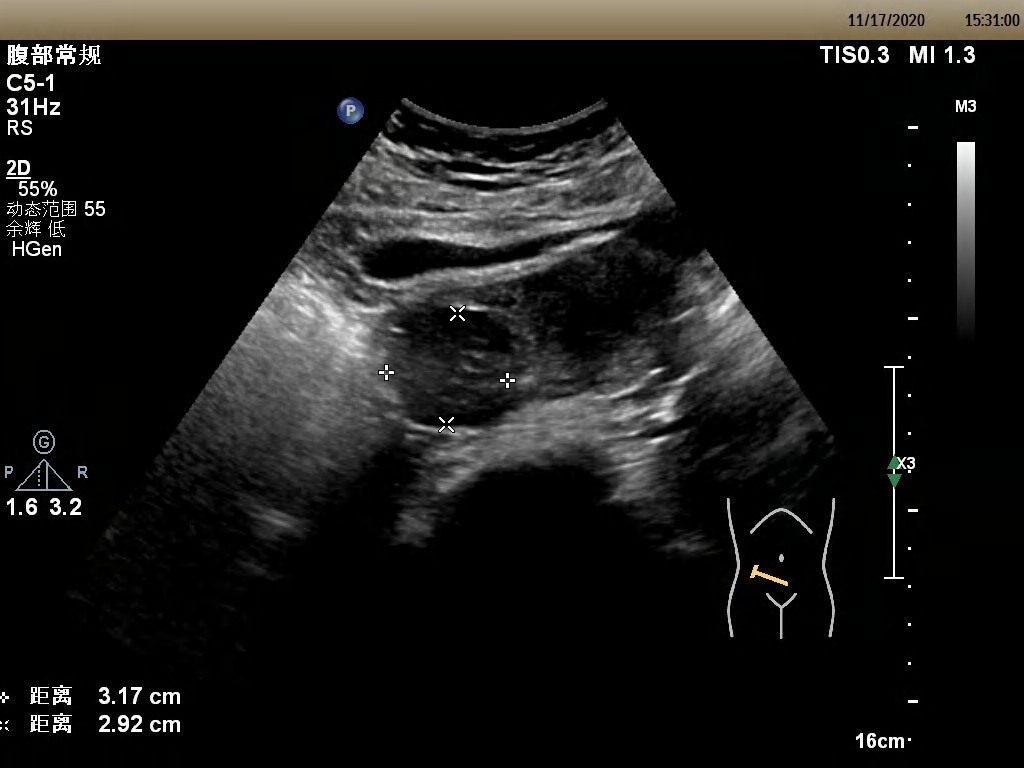肌瘤: (390, 313, 521, 426)
